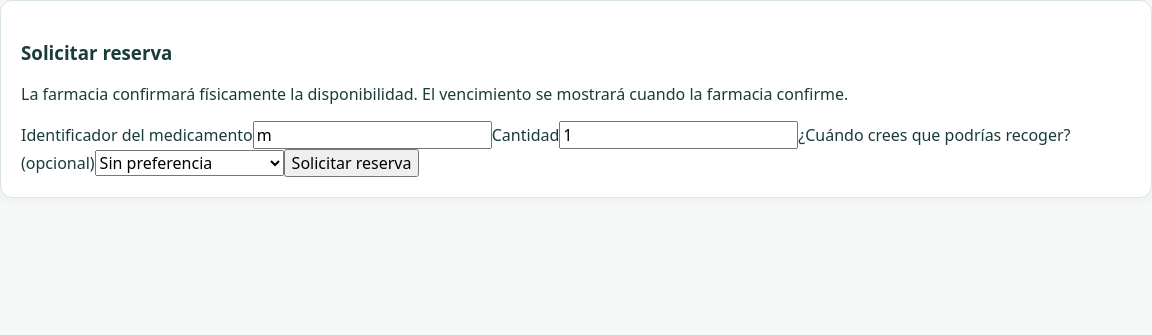
Test: F04.1 preferencia de recogida (cliente) › el formulario de creación ofrece la preferencia, avisa que no es cita y la envía; sin elegirla no envía nada
Submit the text "Solicitar reserva", box left=0, top=0, right=1151, bottom=198
Select "En unos 60 minutos" in the dropdown labelled "¿Cuándo crees que podrías recoger? (opcional)" at (189, 163), box left=95, top=150, right=284, bottom=176
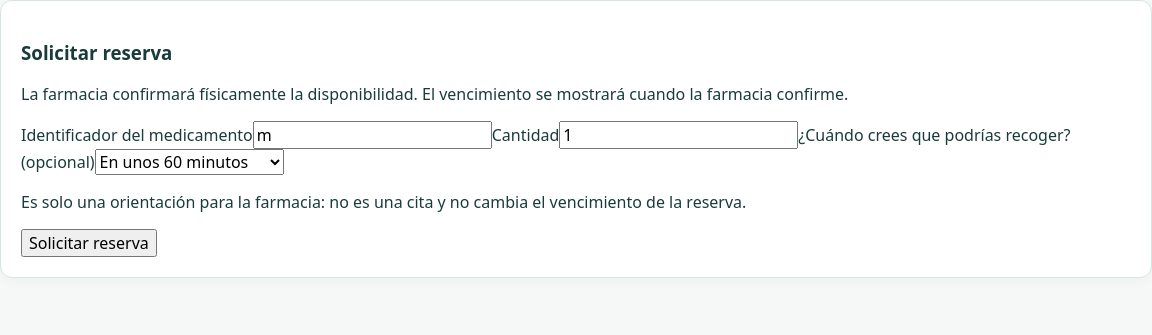
Result: the text "no es una cita y no cambia el vencimiento" is shown at left=21, top=191, right=746, bottom=213
Submit the text "Solicitar reserva"
Select "En una franja de hoy…" in the dropdown labelled "¿Cuándo crees que podrías recoger? (opcional)" at (189, 162), box left=95, top=149, right=284, bottom=175
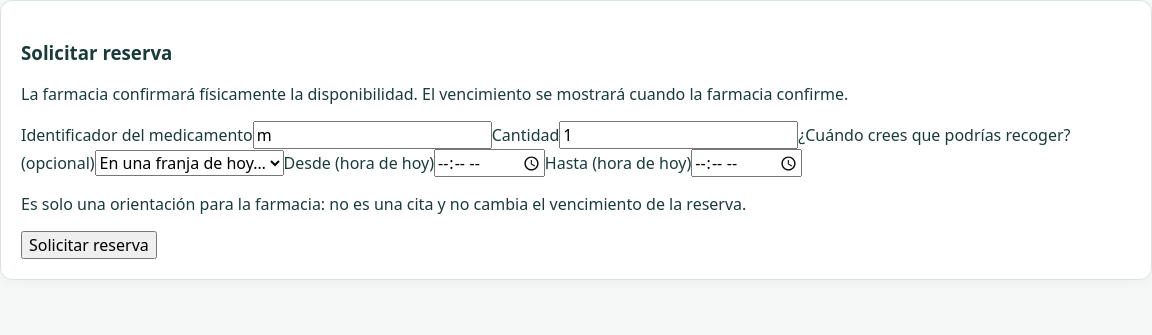
Submit the text "Solicitar reserva"
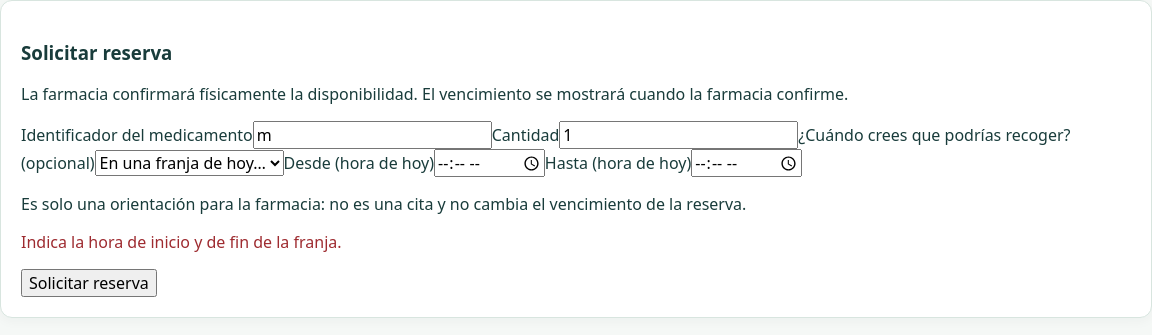
Result: the message shows "hora de inicio" at left=21, top=231, right=342, bottom=253
